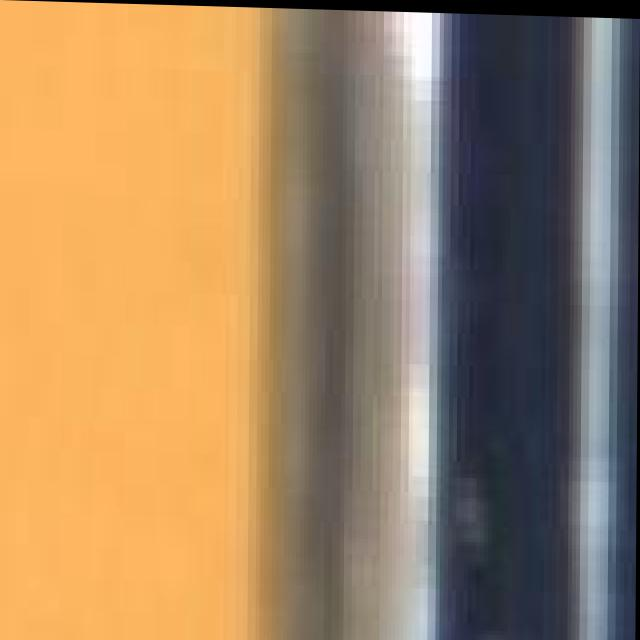capacitor: (0, 0, 456, 640)
